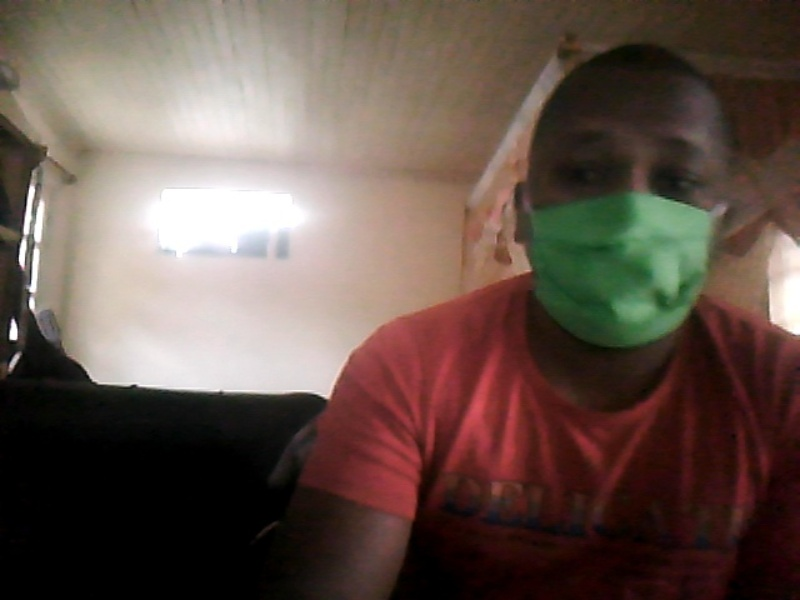ManaoArotava: (508, 45, 750, 349)
